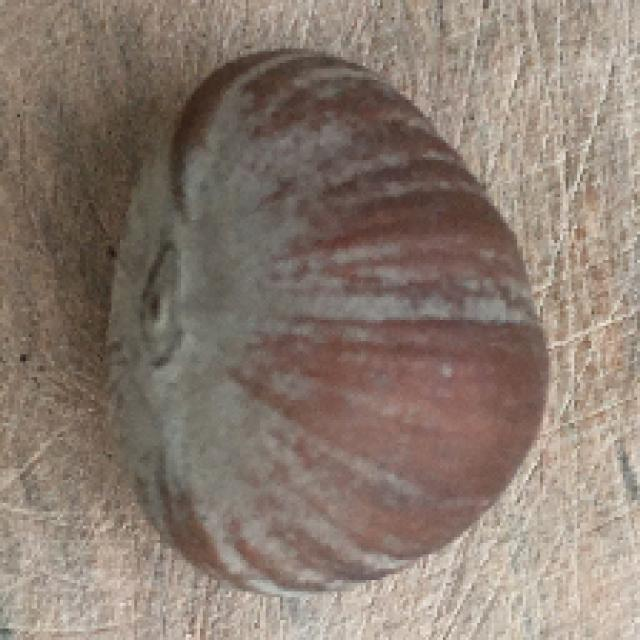qualityHazelnut: (98, 55, 551, 598)
